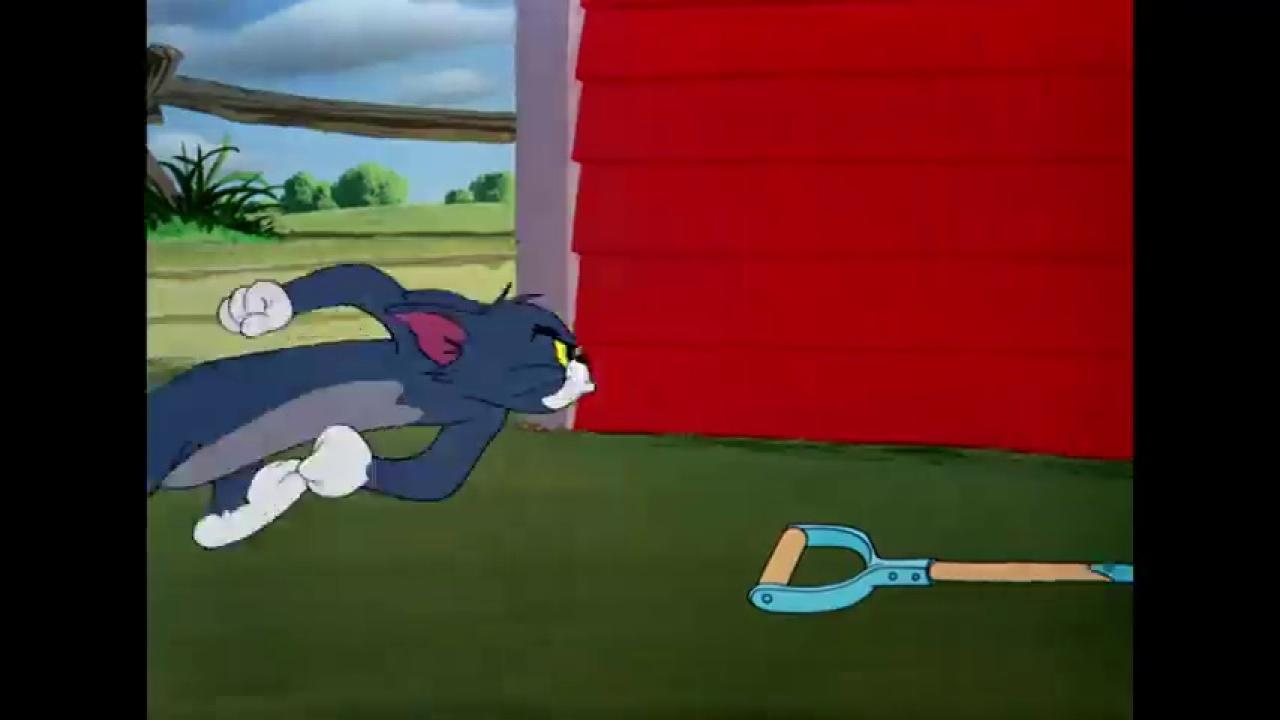Tom: (149, 257, 596, 553)
